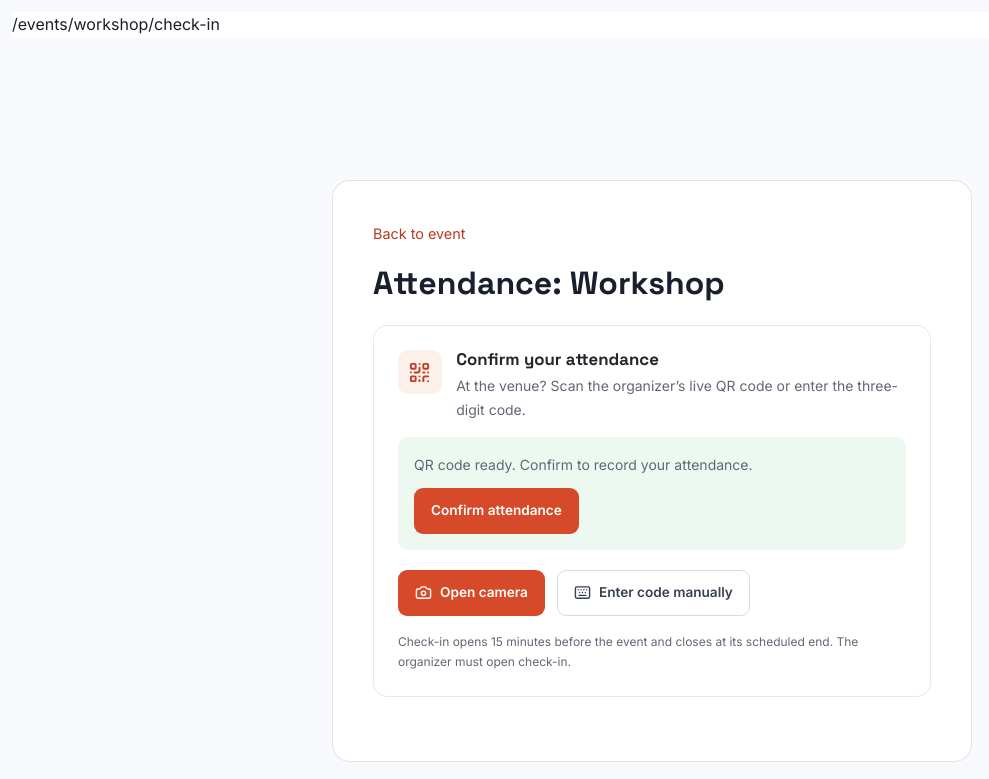
Scenario: removes QR tokens from the address and requires explicit confirmation
Check: the text with test id "location" reads "/events/workshop/check-in", box x1=12 y1=14 x2=220 y2=34
Click the button "Confirm attendance": {"x": 496, "y": 511} x1=414 y1=488 x2=579 y2=534
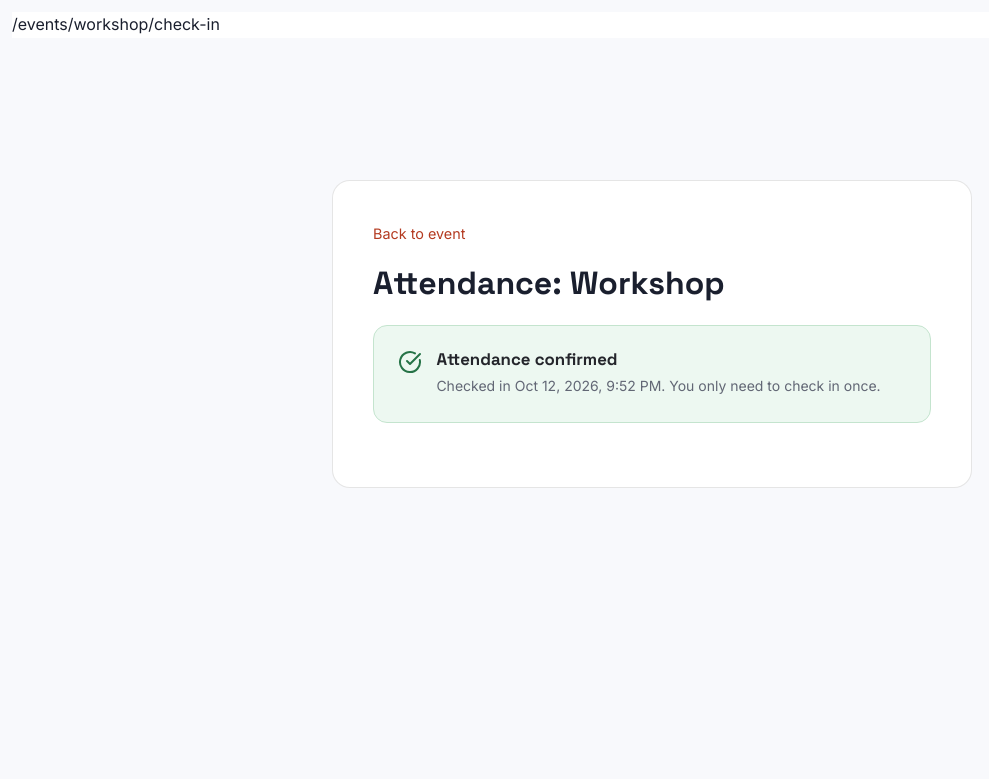
Check: the heading "Attendance confirmed" is shown, box x1=436 y1=348 x2=618 y2=370
